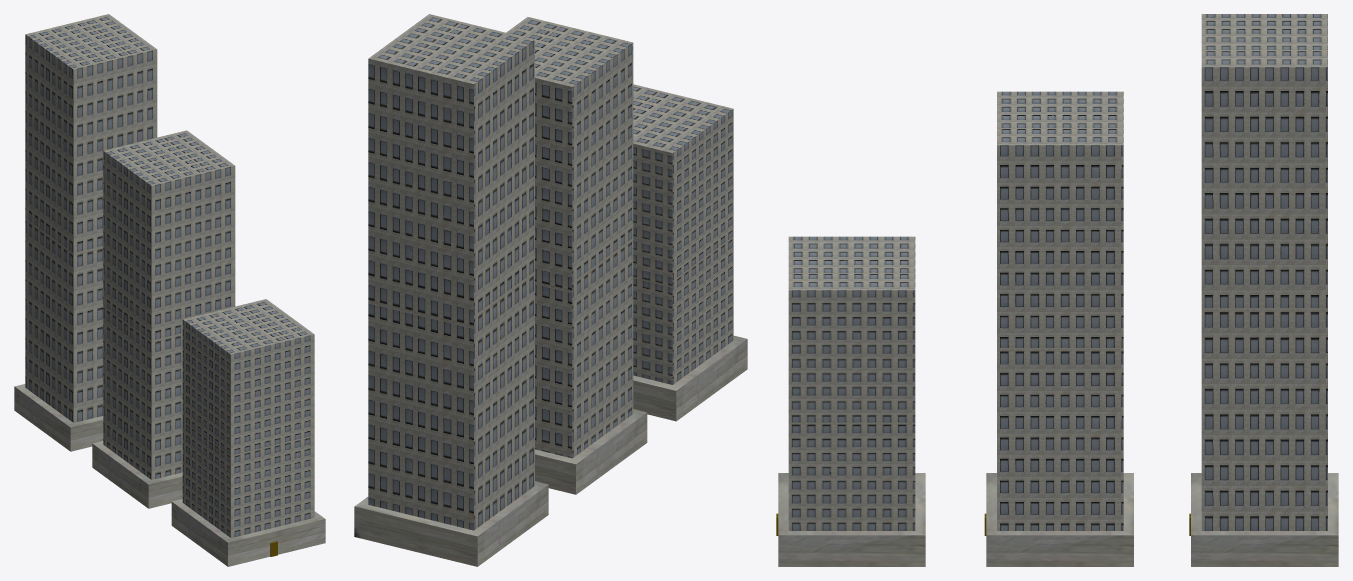
The model's file is Skyscraper.fbx.
3 views of the same model, side by side, from view 1: azimuth 30°, elevation 25°; view 2: azimuth 150°, elevation 25°; view 3: azimuth 270°, elevation 25° (orthographic). The views are drawn at different scales.
Parts seen in each view (by area): view 1: pCube4, pCube5, pCube6; view 2: pCube4, pCube5, pCube6; view 3: pCube4, pCube5, pCube6.
Boxes of the visible parts, x1,y1,x2,y2 form: pCube4: [14, 14, 157, 451]; pCube5: [92, 130, 235, 508]; pCube6: [171, 299, 325, 566]; pCube4: [354, 14, 548, 566]; pCube5: [506, 17, 647, 494]; pCube6: [633, 84, 747, 421]; pCube4: [1189, 14, 1338, 566]; pCube5: [984, 91, 1133, 566]; pCube6: [776, 236, 925, 566].
Bounding box in the file's own units: 14 × 51.8 × 53.33.
2 materials, 1 textured.
